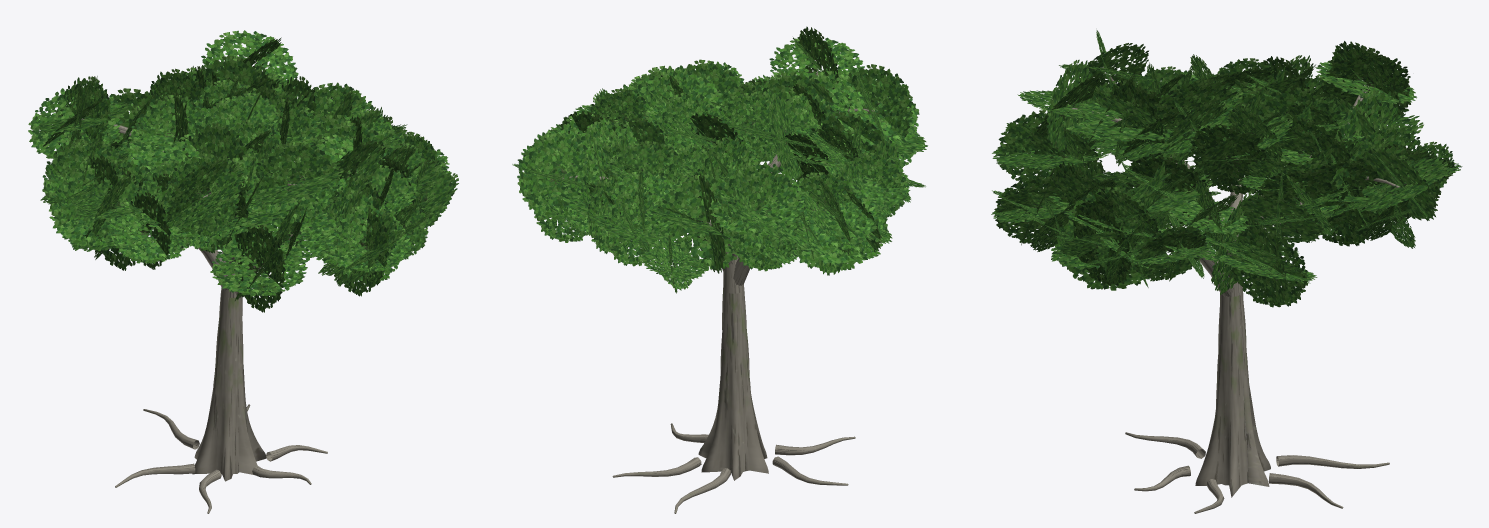
File: big-tropical-tree.glb
The picture shows the model from 3 angles, left to right: view 1: azimuth 30°, elevation 25°; view 2: azimuth 150°, elevation 25°; view 3: azimuth 270°, elevation 25°; orthographic projection. The views are drawn at different scales.
Parts seen in each view (by area): view 1: BigTree-big-tropical-tree; view 2: BigTree-big-tropical-tree; view 3: BigTree-big-tropical-tree.
Part boxes in pixels (bbox=[...]): BigTree-big-tropical-tree: bbox=[28, 30, 458, 513]; BigTree-big-tropical-tree: bbox=[512, 26, 927, 513]; BigTree-big-tropical-tree: bbox=[991, 30, 1462, 513].
Size of the model in its own units: 27.98 by 26.34 by 29.2.
Materials: 1 (1 with a texture image).
